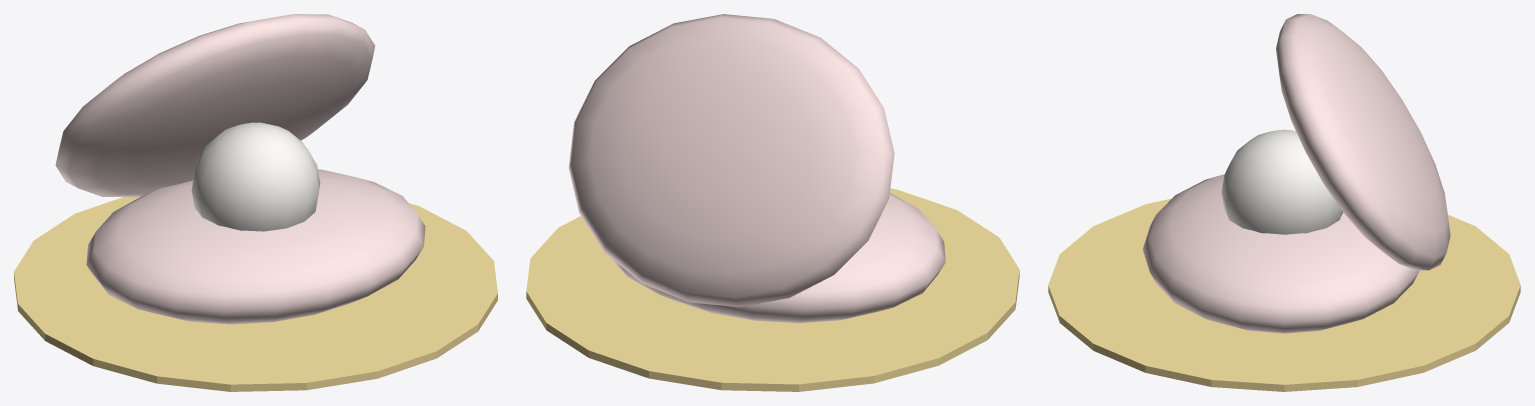
File: freshwater-pearl-oyster.glb
The picture shows the model from 3 angles, left to right: view 1: azimuth 30°, elevation 25°; view 2: azimuth 150°, elevation 25°; view 3: azimuth 270°, elevation 25°; orthographic projection. The views are drawn at different scales.
Parts seen in each view (by area): view 1: pearl_Glow, pearl_ShellBottom, pearl_ShellTop, pearl_Pearl; view 2: pearl_ShellTop, pearl_Glow, pearl_ShellBottom; view 3: pearl_Glow, pearl_ShellBottom, pearl_ShellTop, pearl_Pearl.
Part boxes in pixels (x1,y1,x2,y2): pearl_Glow: [14, 197, 497, 391]; pearl_ShellBottom: [86, 169, 425, 324]; pearl_ShellTop: [55, 14, 375, 197]; pearl_Pearl: [191, 122, 320, 231]; pearl_ShellTop: [568, 14, 894, 307]; pearl_Glow: [526, 188, 1019, 391]; pearl_ShellBottom: [611, 193, 945, 322]; pearl_Glow: [1048, 198, 1520, 391]; pearl_ShellBottom: [1142, 174, 1419, 333]; pearl_ShellTop: [1276, 14, 1450, 270]; pearl_Pearl: [1221, 129, 1343, 234].
Size of the model in its own units: 0.6 by 0.3591 by 0.6.
